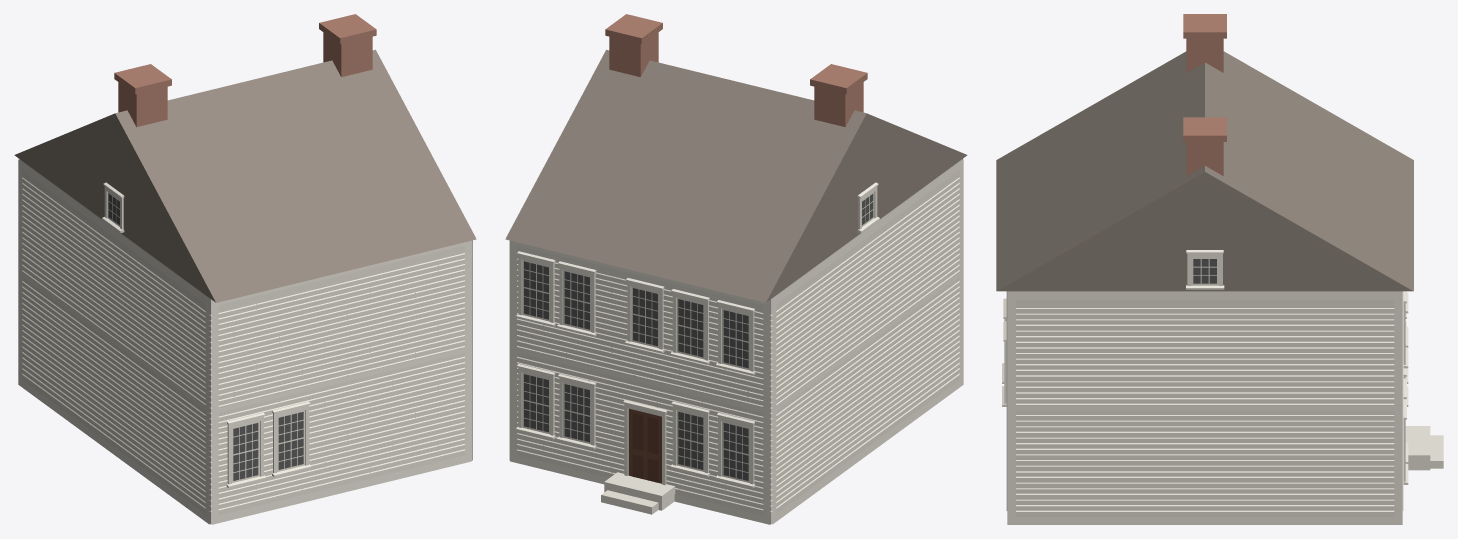
The model's file is recon_1835_blk_washington_franklin_d7_01__inferred_1835.glb.
3 views of the same model, side by side, from view 1: azimuth 30°, elevation 25°; view 2: azimuth 150°, elevation 25°; view 3: azimuth 270°, elevation 25° (orthographic). The views are drawn at different scales.
Visible parts, largest first — view 1: recon_1835_blk_washington_franklin_d7_01__inferred_1835; view 2: recon_1835_blk_washington_franklin_d7_01__inferred_1835; view 3: recon_1835_blk_washington_franklin_d7_01__inferred_1835.
Part boxes in pixels (x1,y1,x2,y2): recon_1835_blk_washington_franklin_d7_01__inferred_1835: [14, 14, 476, 524]; recon_1835_blk_washington_franklin_d7_01__inferred_1835: [505, 14, 967, 524]; recon_1835_blk_washington_franklin_d7_01__inferred_1835: [996, 14, 1443, 524].
Size of the model in its own units: 7.21 by 9.54 by 10.07.
